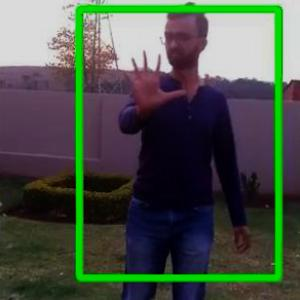follow_hand: (118, 46, 186, 115)
